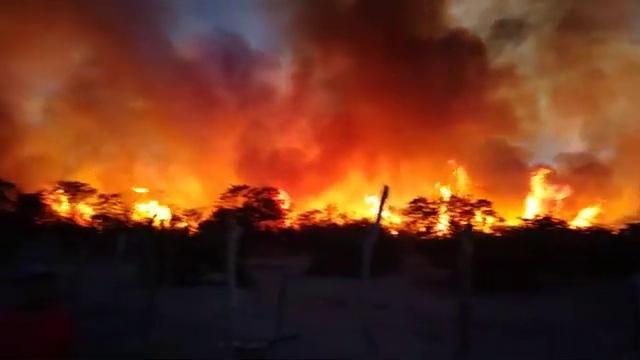fire: (529, 166, 569, 215), (135, 199, 175, 227), (365, 195, 400, 223)
